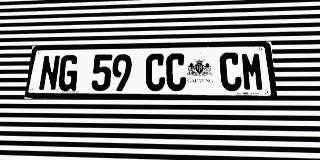5: (91, 54, 113, 91)
9: (111, 54, 132, 91)
C: (219, 52, 242, 91), (166, 53, 186, 91), (145, 54, 165, 91)
G: (57, 55, 79, 91)
M: (240, 52, 265, 91)
N: (38, 55, 61, 91)
